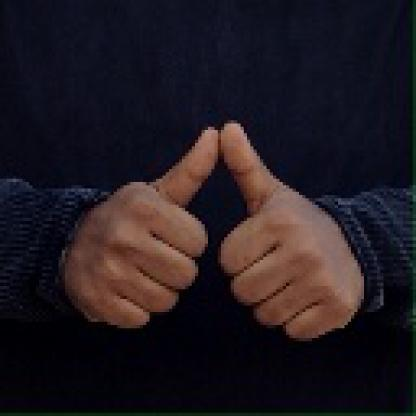A: (72, 115, 361, 342)
